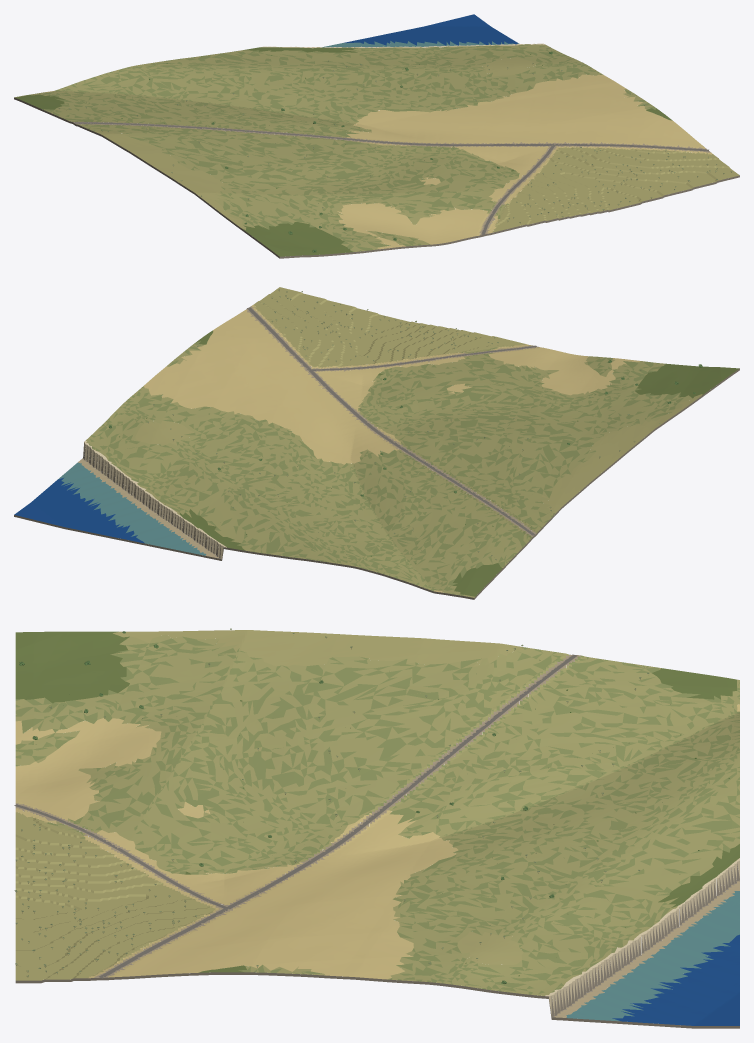
File: parca_+13_-2-yakin.glb
3 renders of one model, top to bottom at view 1: azimuth 30°, elevation 25°; view 2: azimuth 150°, elevation 25°; view 3: azimuth 270°, elevation 25°, orthographic. The views are drawn at different scales.
Visible parts, largest first — view 1: parca_+13_-2_arazi, parca_+13_-2_yollar, parca_+13_-2_bitkiler; view 2: parca_+13_-2_arazi, parca_+13_-2_yollar, parca_+13_-2_bitkiler; view 3: parca_+13_-2_arazi, parca_+13_-2_yollar, parca_+13_-2_bitkiler.
Boxes of the visible parts, bbox=[...] form: parca_+13_-2_arazi: bbox=[14, 14, 739, 258]; parca_+13_-2_yollar: bbox=[74, 122, 708, 234]; parca_+13_-2_bitkiler: bbox=[58, 49, 732, 252]; parca_+13_-2_arazi: bbox=[14, 287, 739, 599]; parca_+13_-2_yollar: bbox=[247, 307, 536, 535]; parca_+13_-2_bitkiler: bbox=[108, 289, 702, 563]; parca_+13_-2_arazi: bbox=[15, 630, 739, 1028]; parca_+13_-2_yollar: bbox=[14, 654, 577, 978]; parca_+13_-2_bitkiler: bbox=[14, 628, 729, 983].
Size of the model in its own units: 1004 by 144 by 1002.
